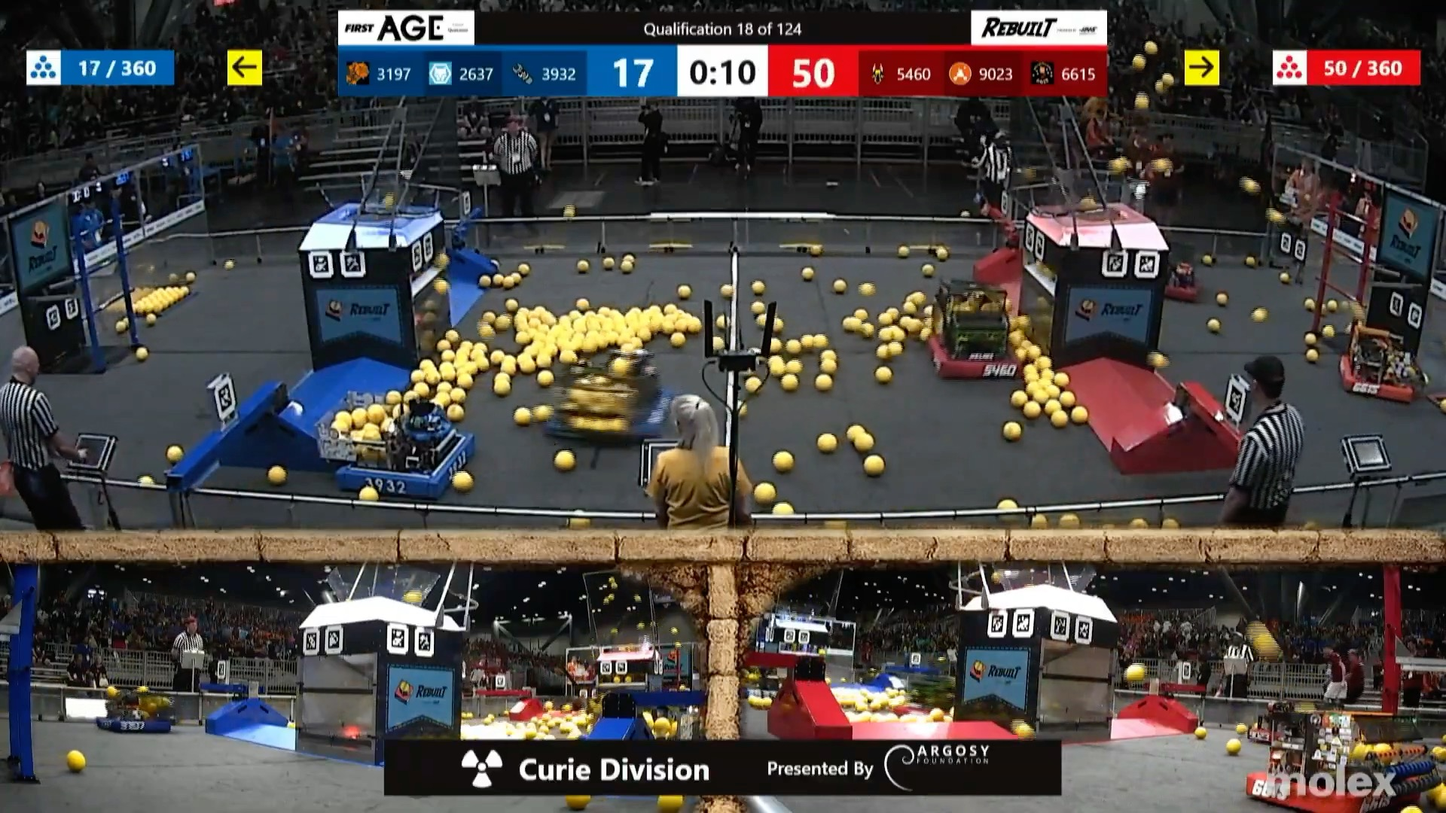bumpers: (1238, 755, 1432, 812), (331, 432, 484, 499), (541, 387, 678, 446), (1322, 350, 1426, 411), (921, 334, 1033, 384), (90, 706, 182, 738), (1164, 278, 1207, 304), (1246, 724, 1283, 749)
